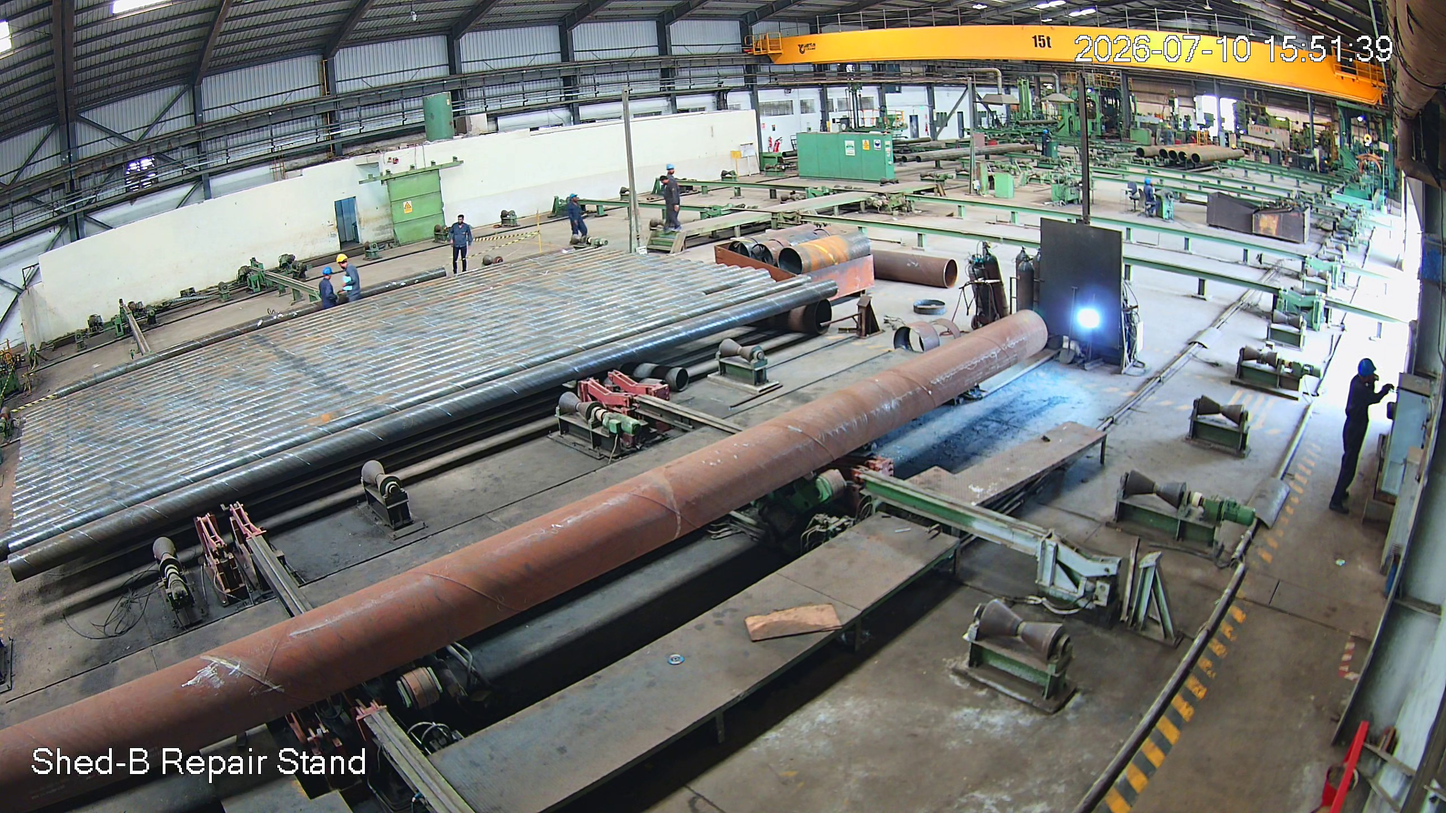Helmet: (1353, 353, 1381, 411), (331, 249, 352, 268), (568, 191, 581, 205), (322, 263, 331, 277)
Person: (1342, 357, 1408, 539), (333, 252, 362, 304), (660, 175, 679, 234), (565, 194, 590, 238), (452, 215, 472, 265), (319, 266, 339, 312)
